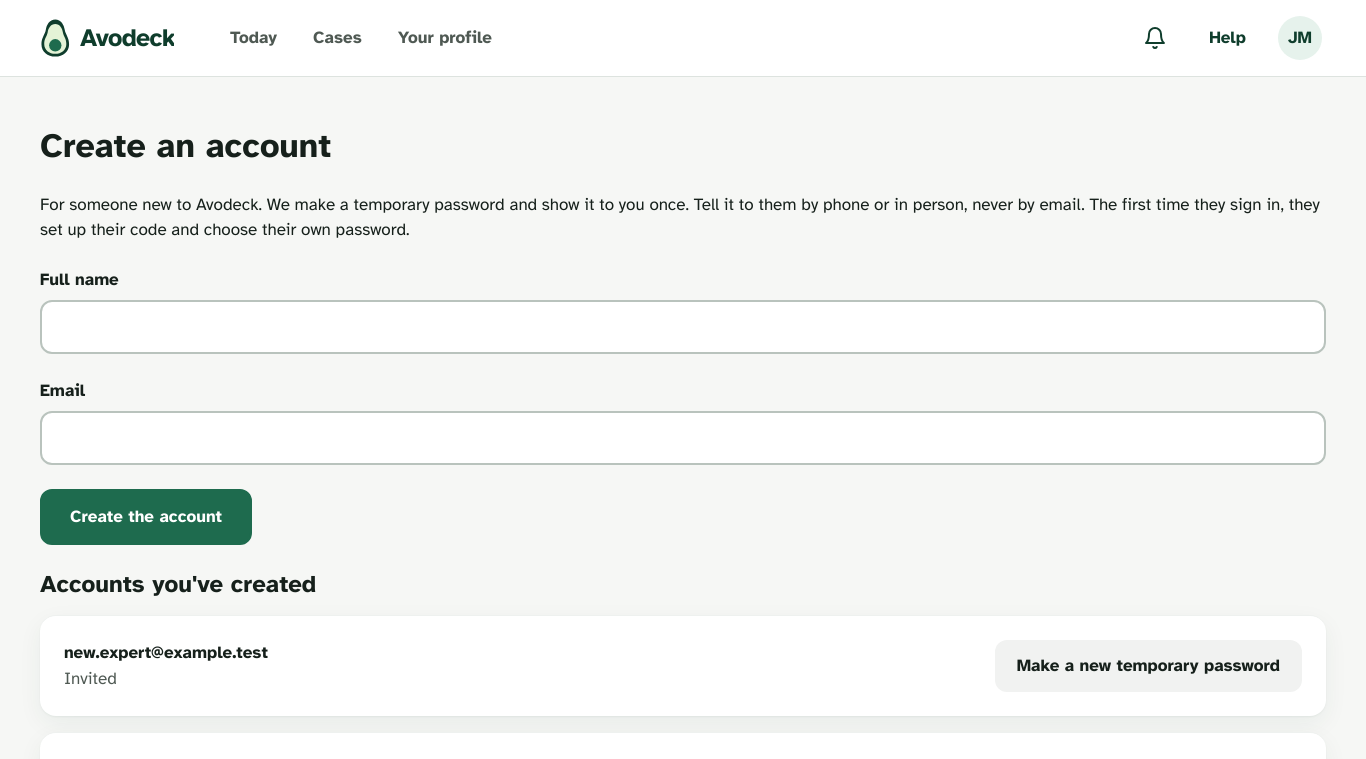
an invited account can have a new temporary password; an active one cannot
This screenshot has width=1366, height=759.
Click the button "Make a new temporary password".
click(1148, 666)  # box [995,640,1302,692]
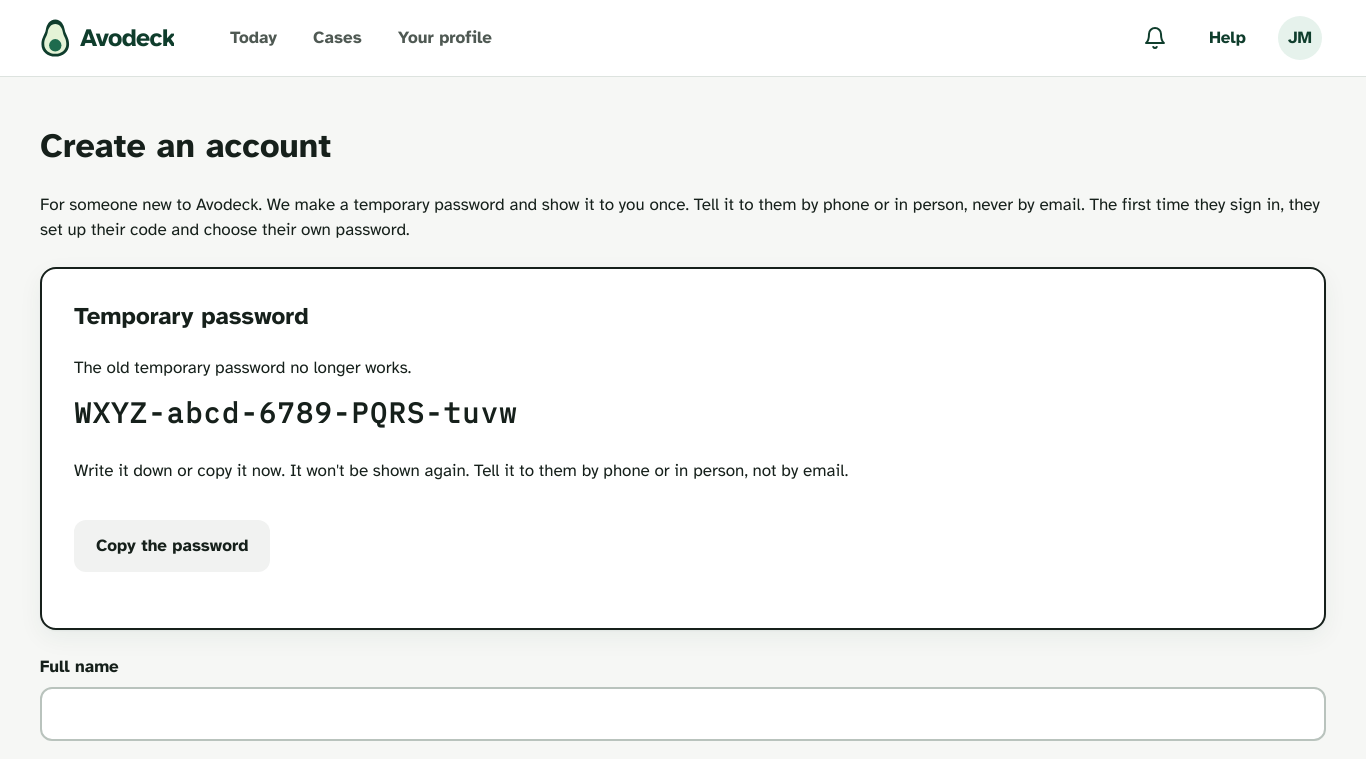
Now the text "WXYZ-abcd-6789-PQRS-tuvw" is shown, box [74,394,518,431]
Now the text "The old temporary password no longer works." is shown, box [74,356,411,378]
